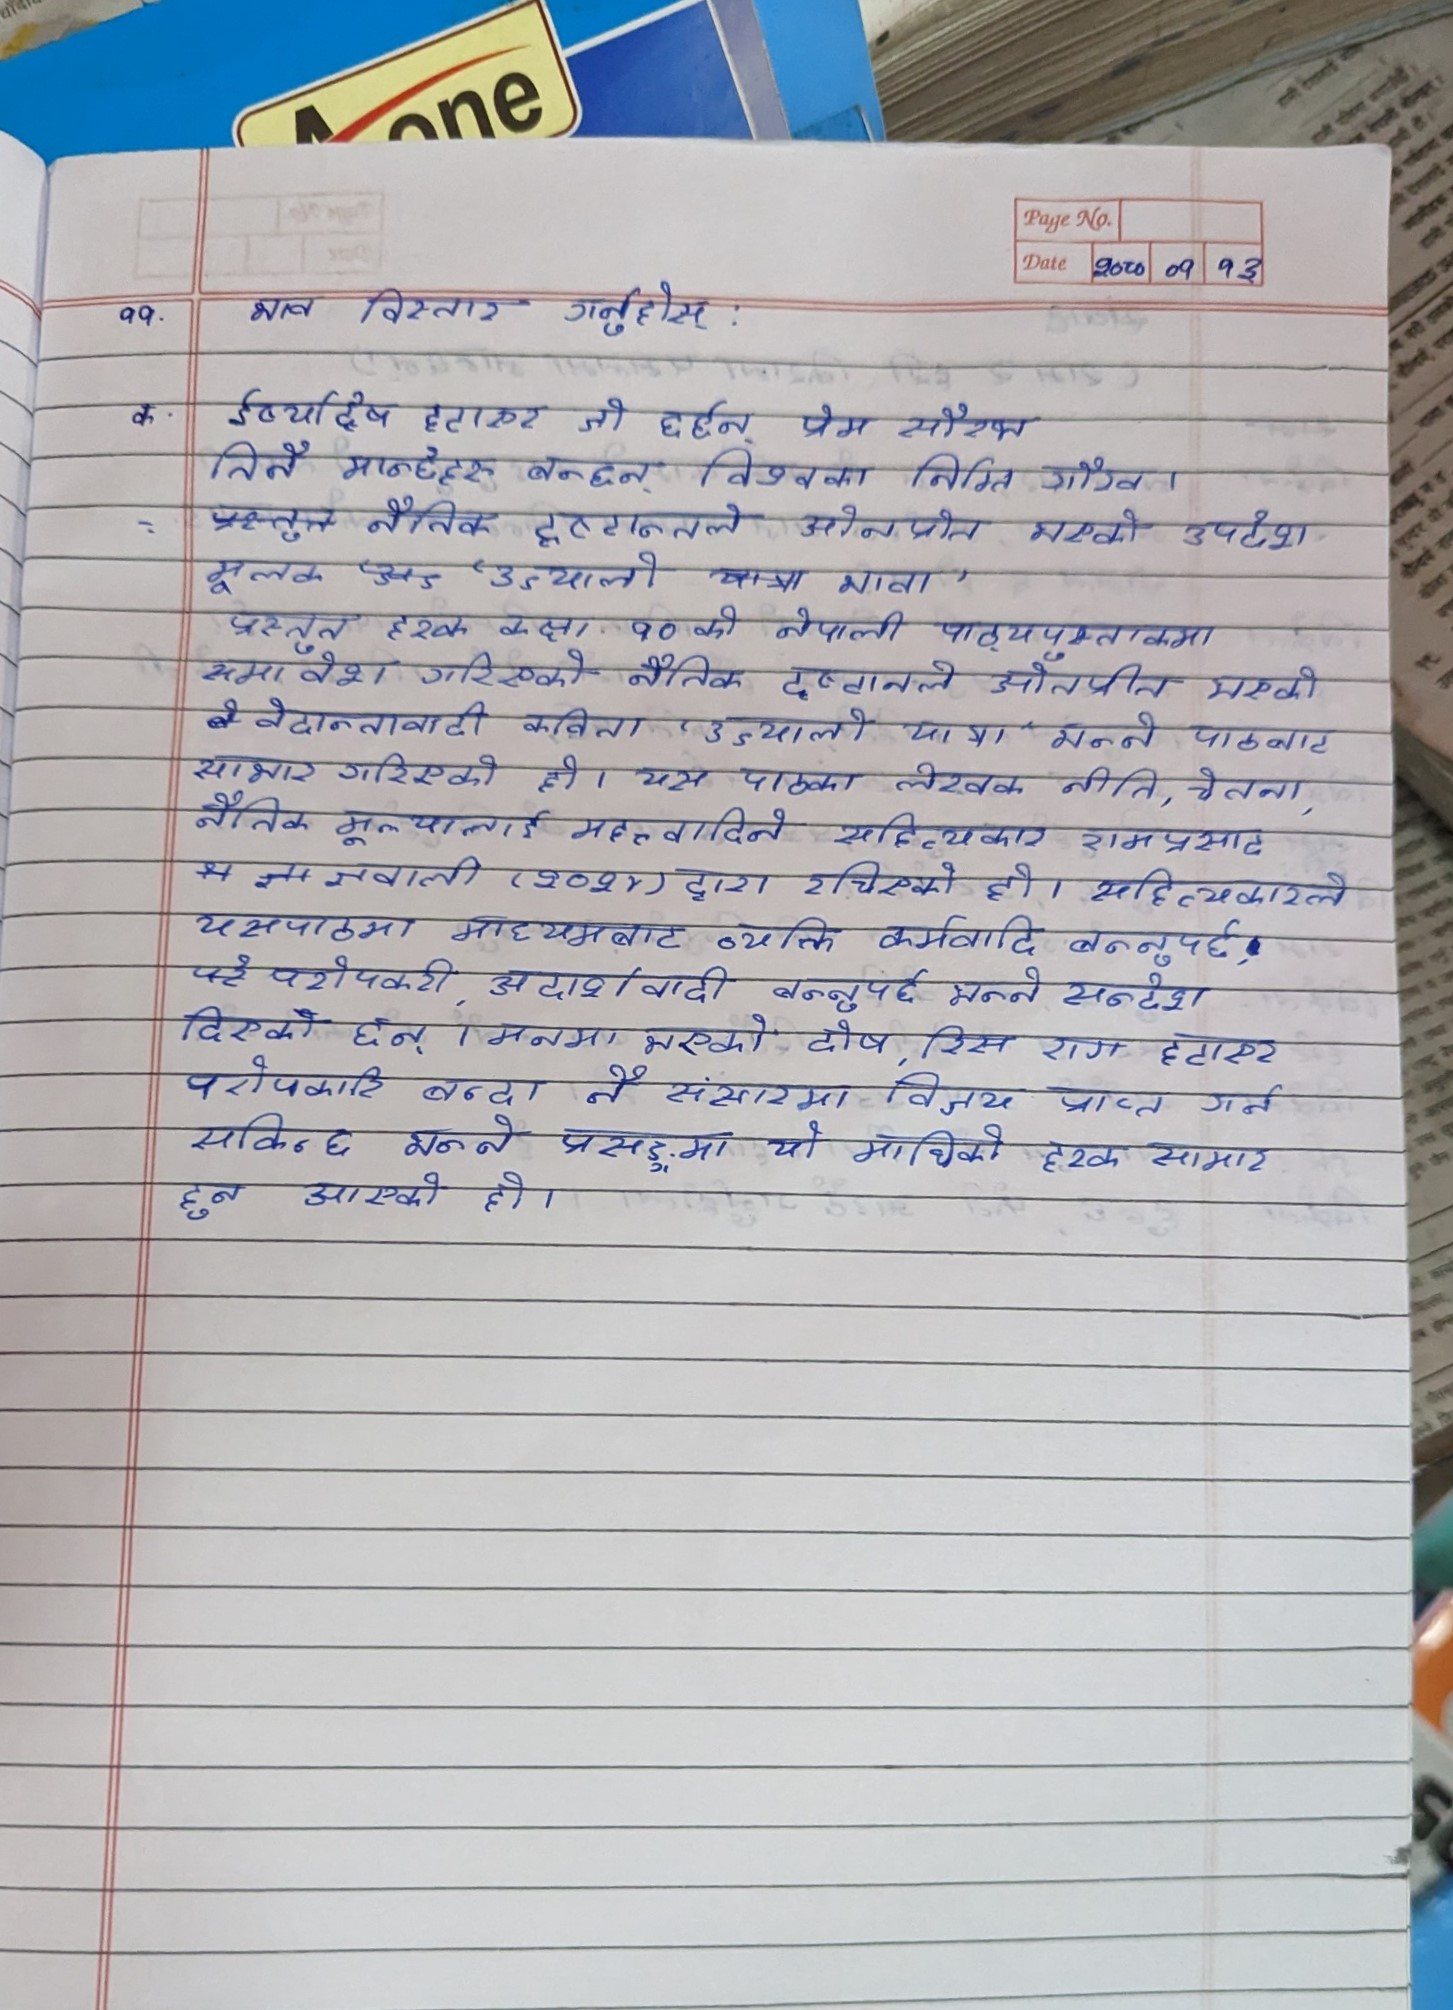text: (932, 607, 1227, 660), (524, 492, 773, 548), (247, 691, 495, 743), (1083, 861, 1355, 908), (445, 904, 688, 952), (170, 1055, 389, 1105), (485, 960, 734, 1003), (545, 278, 723, 339), (551, 1117, 734, 1177), (567, 802, 790, 851), (328, 801, 551, 847), (190, 902, 414, 946), (796, 496, 982, 548), (262, 949, 453, 999), (223, 379, 396, 432), (769, 654, 965, 701), (662, 1069, 855, 1116), (829, 811, 1052, 852), (698, 442, 868, 493), (183, 1108, 357, 1158), (1068, 914, 1241, 964), (989, 659, 1185, 702), (287, 1166, 446, 1219), (482, 551, 671, 595), (197, 651, 398, 691), (354, 282, 528, 329), (334, 743, 499, 791), (869, 910, 1046, 955), (768, 964, 929, 1013), (698, 702, 869, 748), (849, 1119, 1007, 1167), (337, 440, 493, 488), (1061, 966, 1216, 1014), (896, 395, 1039, 446), (1074, 822, 1280, 858), (1138, 1128, 1275, 1180), (798, 855, 957, 899), (421, 648, 592, 687), (172, 997, 317, 1042), (226, 601, 357, 651), (414, 389, 552, 435), (1014, 502, 1158, 548), (1177, 506, 1311, 554), (634, 1014, 776, 1060), (200, 549, 328, 599), (883, 1069, 1014, 1117), (323, 855, 485, 894), (367, 492, 495, 540), (704, 911, 844, 955), (515, 698, 651, 741), (183, 790, 314, 835), (1189, 715, 1334, 755), (893, 758, 1032, 801), (1152, 1032, 1289, 1074), (620, 651, 751, 694), (400, 1113, 521, 1159), (771, 602, 908, 643), (474, 1017, 620, 1055), (1035, 449, 1150, 496), (521, 449, 659, 488), (1041, 1078, 1172, 1119), (189, 746, 318, 787), (1047, 708, 1163, 754), (417, 1064, 545, 1105), (907, 448, 1018, 495), (1181, 765, 1306, 805), (209, 437, 314, 484), (893, 712, 1018, 751), (734, 758, 858, 797), (236, 278, 329, 329), (652, 396, 757, 442), (1202, 662, 1319, 701), (668, 860, 776, 902), (918, 1017, 1018, 1063), (528, 860, 648, 897), (345, 1007, 432, 1058), (940, 964, 1041, 1007), (830, 563, 949, 599), (1197, 1077, 1292, 1120), (173, 1175, 250, 1228), (379, 602, 479, 643), (496, 605, 598, 645), (1053, 765, 1163, 801), (1036, 1135, 1128, 1177), (626, 755, 716, 794), (798, 395, 872, 442), (574, 1060, 643, 1110), (94, 286, 169, 329), (808, 1017, 888, 1058), (1035, 1028, 1125, 1063), (763, 1119, 826, 1163), (478, 1167, 531, 1217), (983, 860, 1039, 904), (691, 596, 741, 641), (531, 754, 588, 793), (577, 389, 624, 434), (626, 612, 680, 643), (117, 392, 165, 423)
